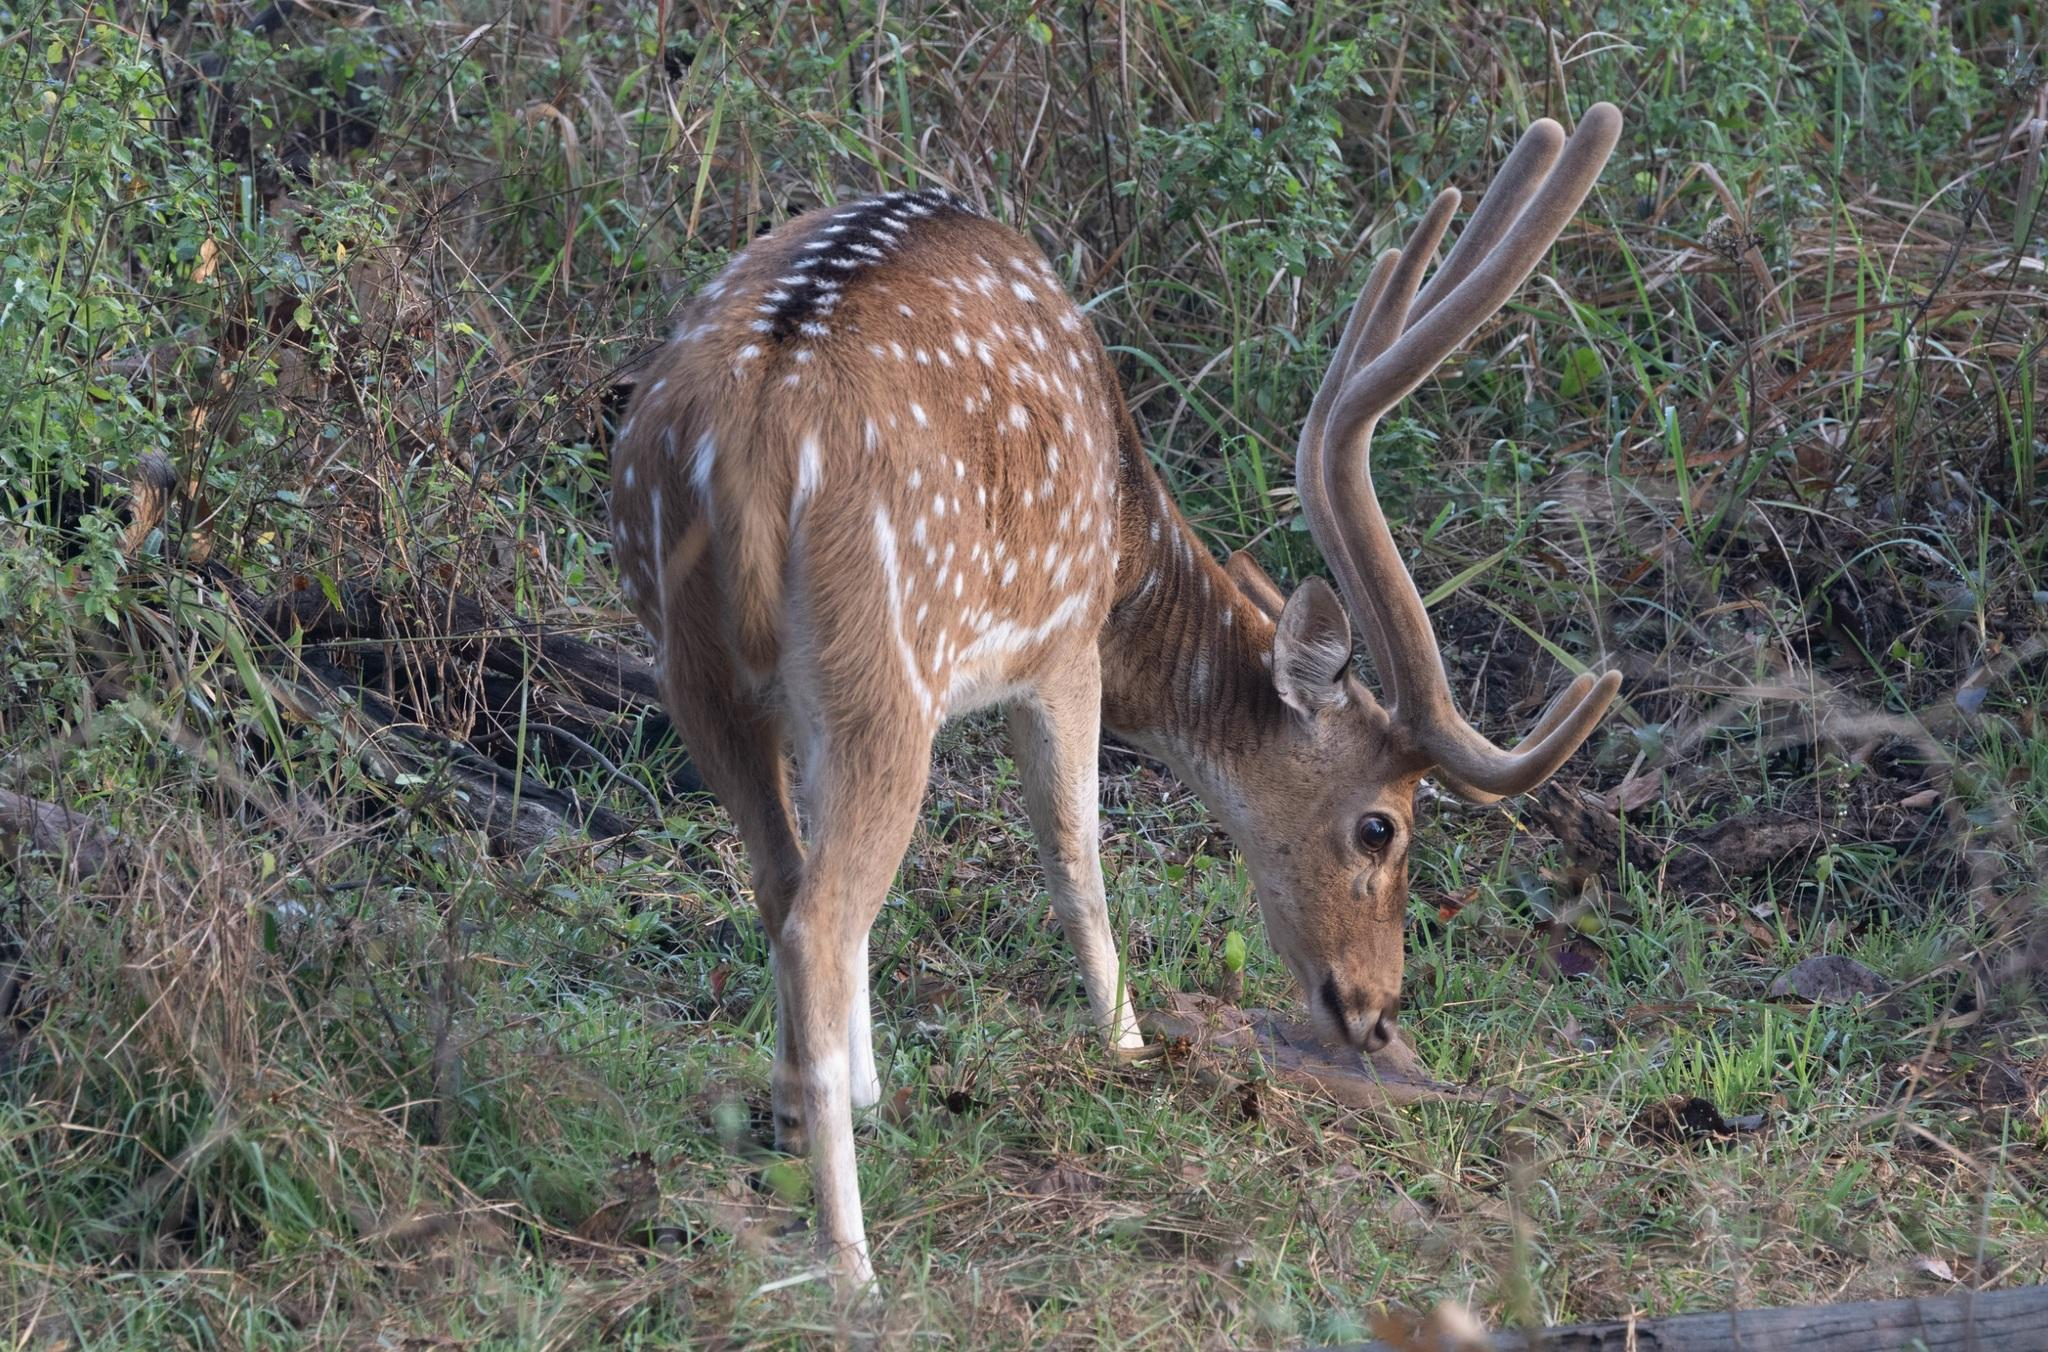Deer: (611, 103, 1621, 1283)
